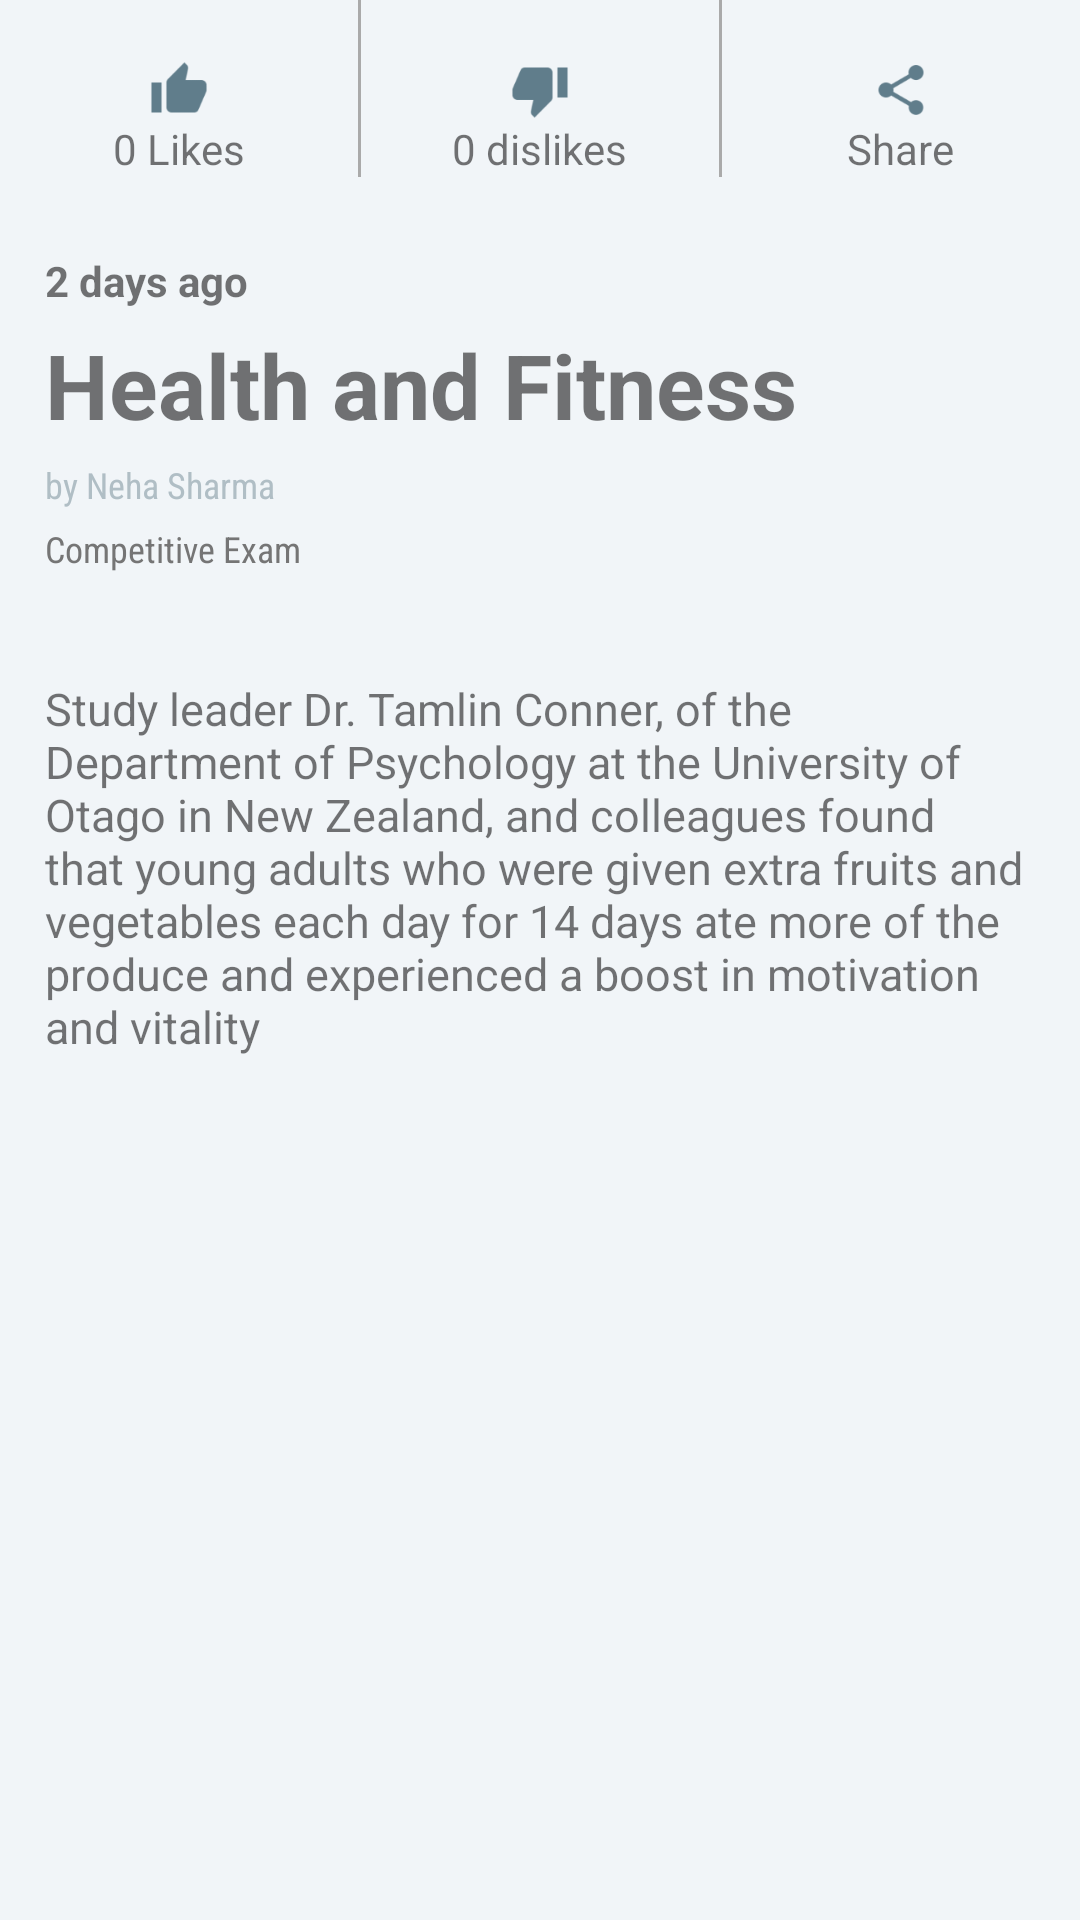

Icons on this 1080 x 1920 Android screen, each with the point to tap as (x,y):
thumb down: (540,92)
thumb up: (179,87)
